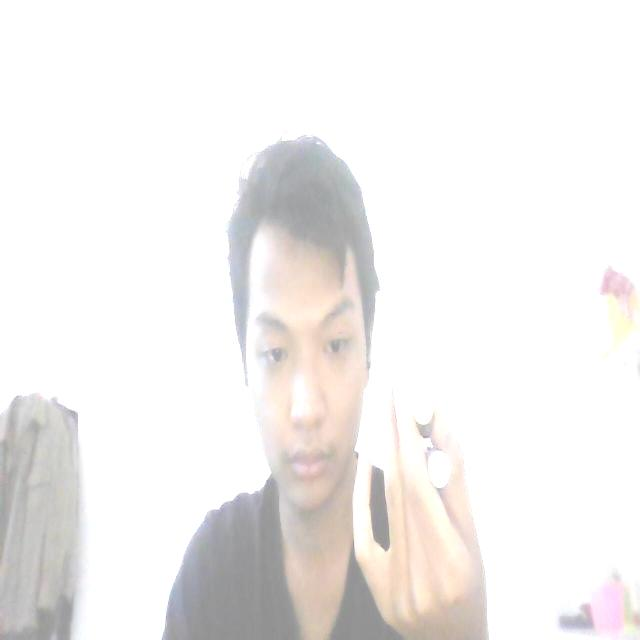AA: (406, 373, 438, 438), (424, 448, 456, 497)
